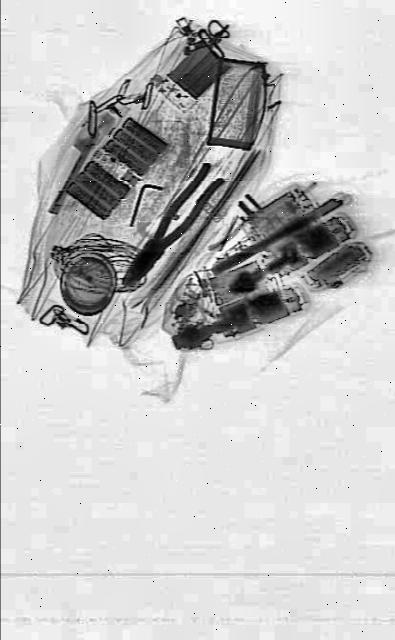Pliers: (113, 156, 224, 302)
